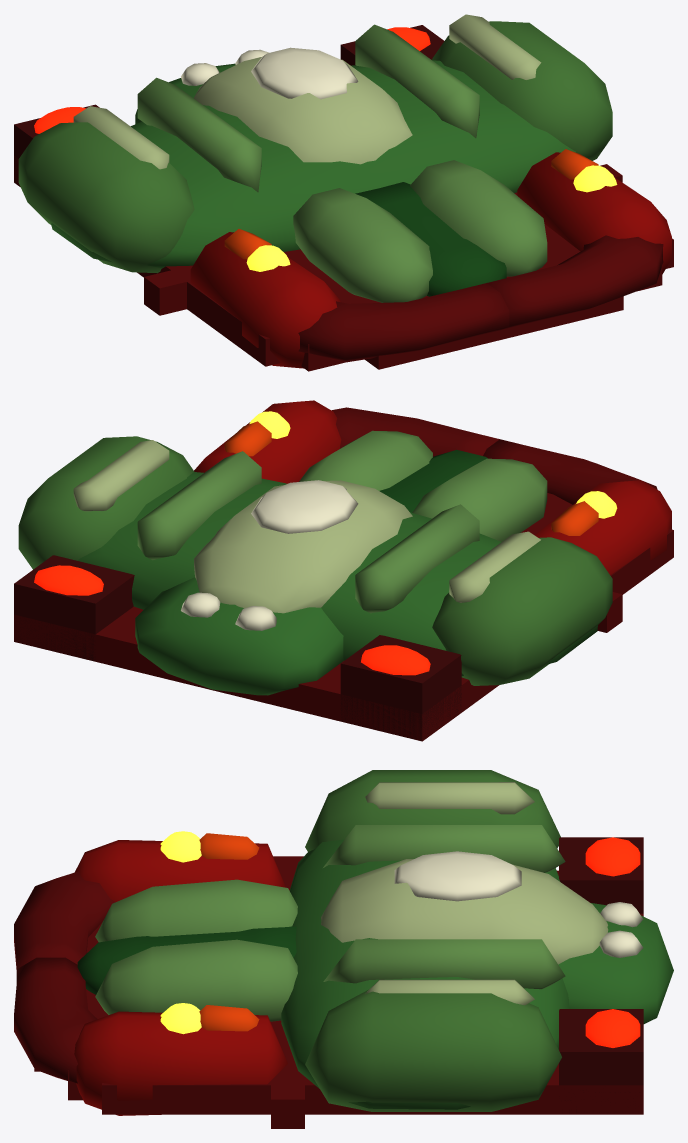
Rendered from newshj-131.glb.
3 renders of one model, top to bottom at view 1: azimuth 30°, elevation 25°; view 2: azimuth 150°, elevation 25°; view 3: azimuth 270°, elevation 25°, orthographic. The views are drawn at different scales.
Visible parts, largest first — view 1: newshj-131; view 2: newshj-131; view 3: newshj-131.
Part boxes in pixels (x1,y1,x2,y2): newshj-131: (14, 14, 673, 371); newshj-131: (14, 400, 673, 741); newshj-131: (14, 770, 673, 1128).
Bounding box in the file's own units: 1.6 × 0.44 × 1.62.
